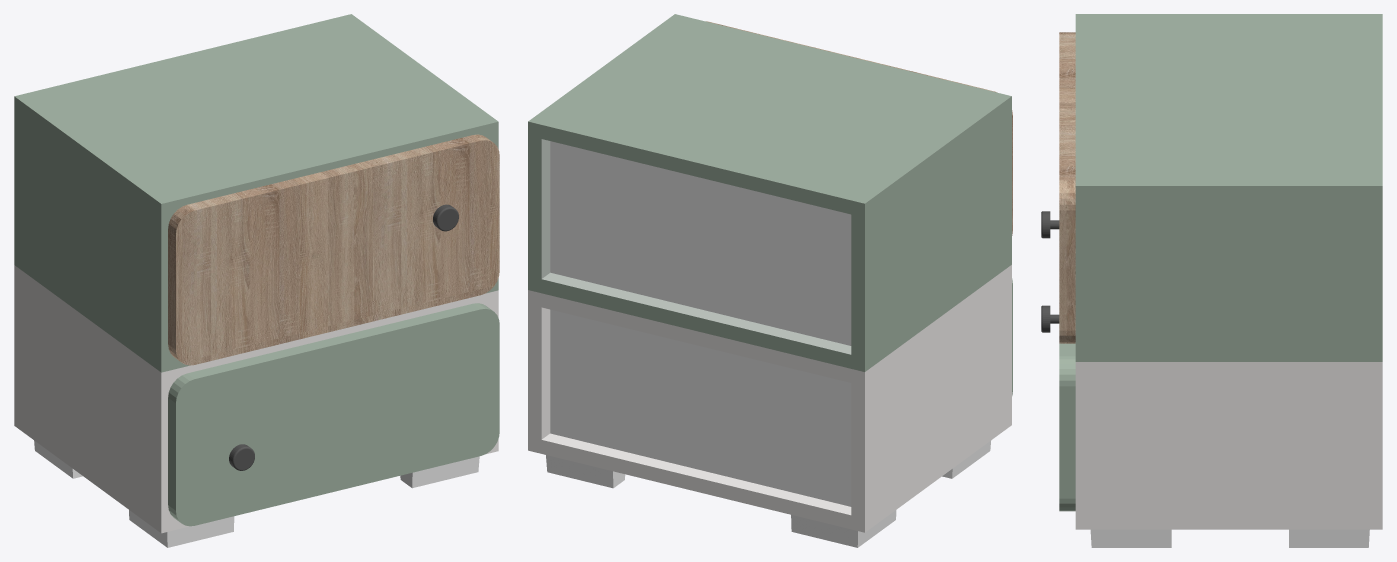
File: bedside_table_domino.glb
3 renders of one model, left to right at view 1: azimuth 30°, elevation 25°; view 2: azimuth 150°, elevation 25°; view 3: azimuth 270°, elevation 25°, orthographic. The views are drawn at different scales.
Visible parts, largest first — view 1: 3DGeom-2, 3DGeom-4, 3DGeom-3, 3DGeom-7, 3DGeom-6; view 2: 3DGeom-2, 3DGeom-7, 3DGeom-3, 3DGeom-1; view 3: 3DGeom-2, 3DGeom-3, 3DGeom-4, 3DGeom-7, 3DGeom-6.
Part boxes in pixels (x1,y1,x2,y2): 3DGeom-2: (14, 14, 499, 526); 3DGeom-4: (168, 134, 499, 365); 3DGeom-3: (14, 265, 498, 533); 3DGeom-7: (34, 440, 479, 547); 3DGeom-6: (229, 204, 458, 470); 3DGeom-2: (528, 14, 1012, 395); 3DGeom-7: (546, 141, 990, 547); 3DGeom-3: (528, 265, 1011, 532); 3DGeom-1: (541, 139, 851, 354); 3DGeom-2: (1059, 14, 1382, 511); 3DGeom-3: (1075, 362, 1382, 529); 3DGeom-4: (1059, 32, 1075, 343); 3DGeom-7: (1090, 529, 1369, 547); 3DGeom-6: (1041, 211, 1059, 332).
Bounding box in the file's own units: 0.45 × 0.45 × 0.378.
9 materials, 1 textured.
